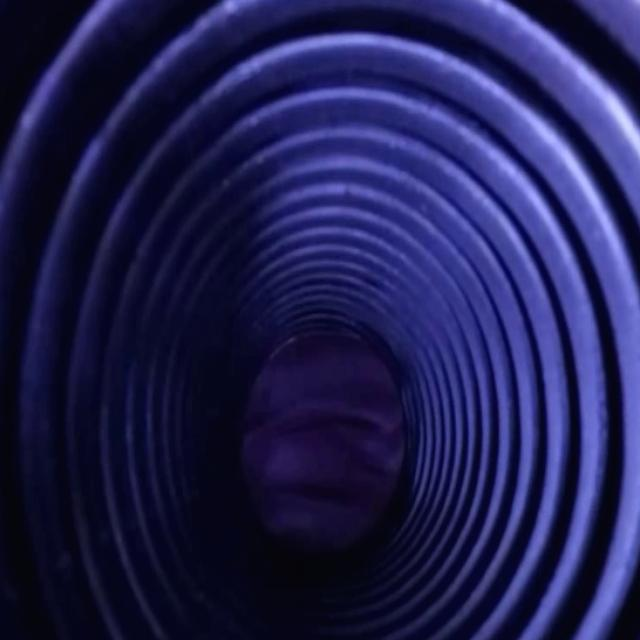block: (248, 328, 414, 559)
